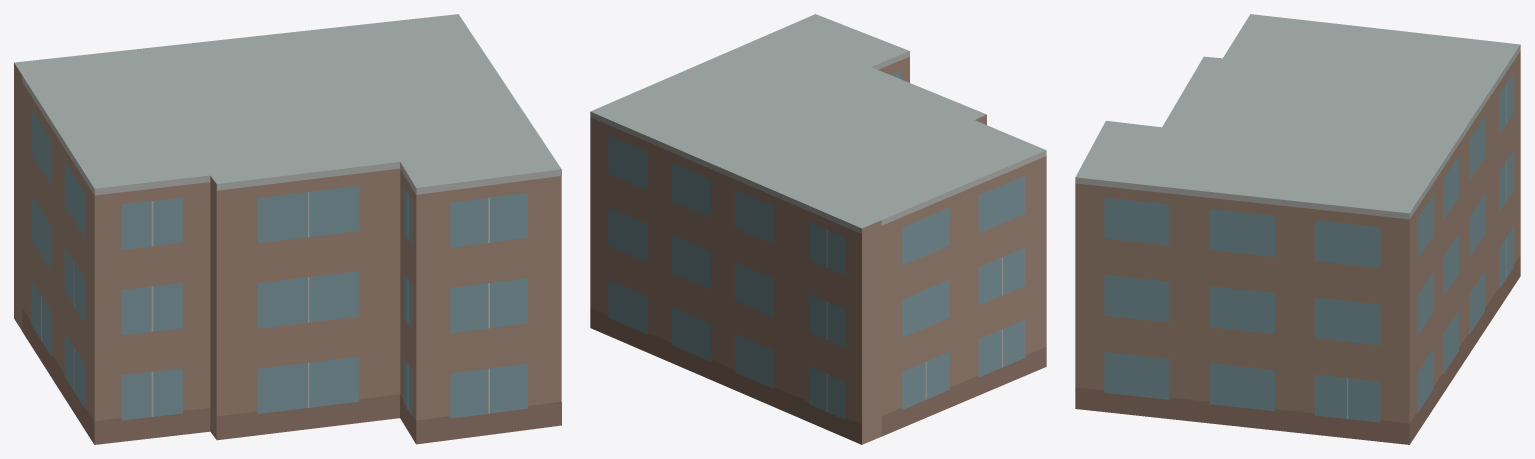
Rendered from survey-upis-33033869.glb.
The picture shows the model from 3 angles, left to right: view 1: azimuth 30°, elevation 25°; view 2: azimuth 150°, elevation 25°; view 3: azimuth 270°, elevation 25°; orthographic projection. The views are drawn at different scales.
Visible parts, largest first — view 1: survey-upis-33033869.tmp; view 2: survey-upis-33033869.tmp; view 3: survey-upis-33033869.tmp.
Boxes of the visible parts, x1,y1,x2,y2 form: survey-upis-33033869.tmp: (14, 14, 561, 444); survey-upis-33033869.tmp: (590, 14, 1046, 444); survey-upis-33033869.tmp: (1075, 14, 1520, 444).
Bounding box in the file's own units: 17.47 × 9.45 × 16.49.
